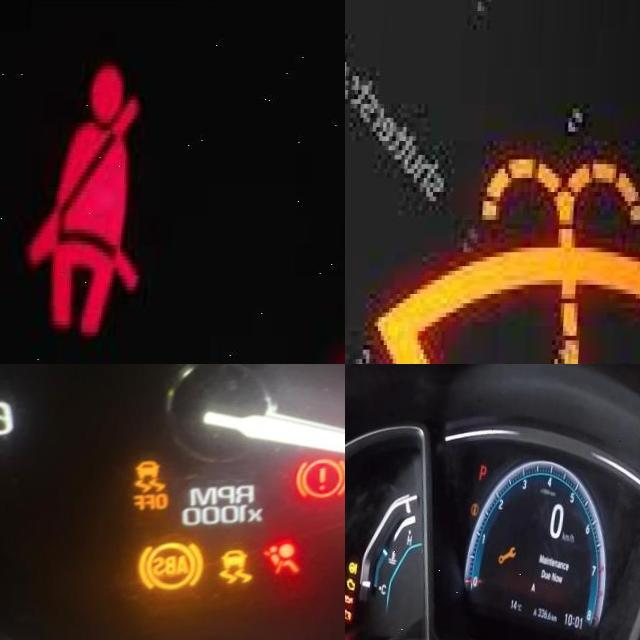Seat Belt: (29, 70, 156, 334)
Washer Fluid: (363, 161, 640, 364)
